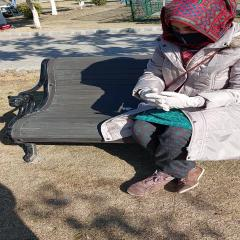gloved: (150, 91, 198, 111), (140, 88, 167, 110)
